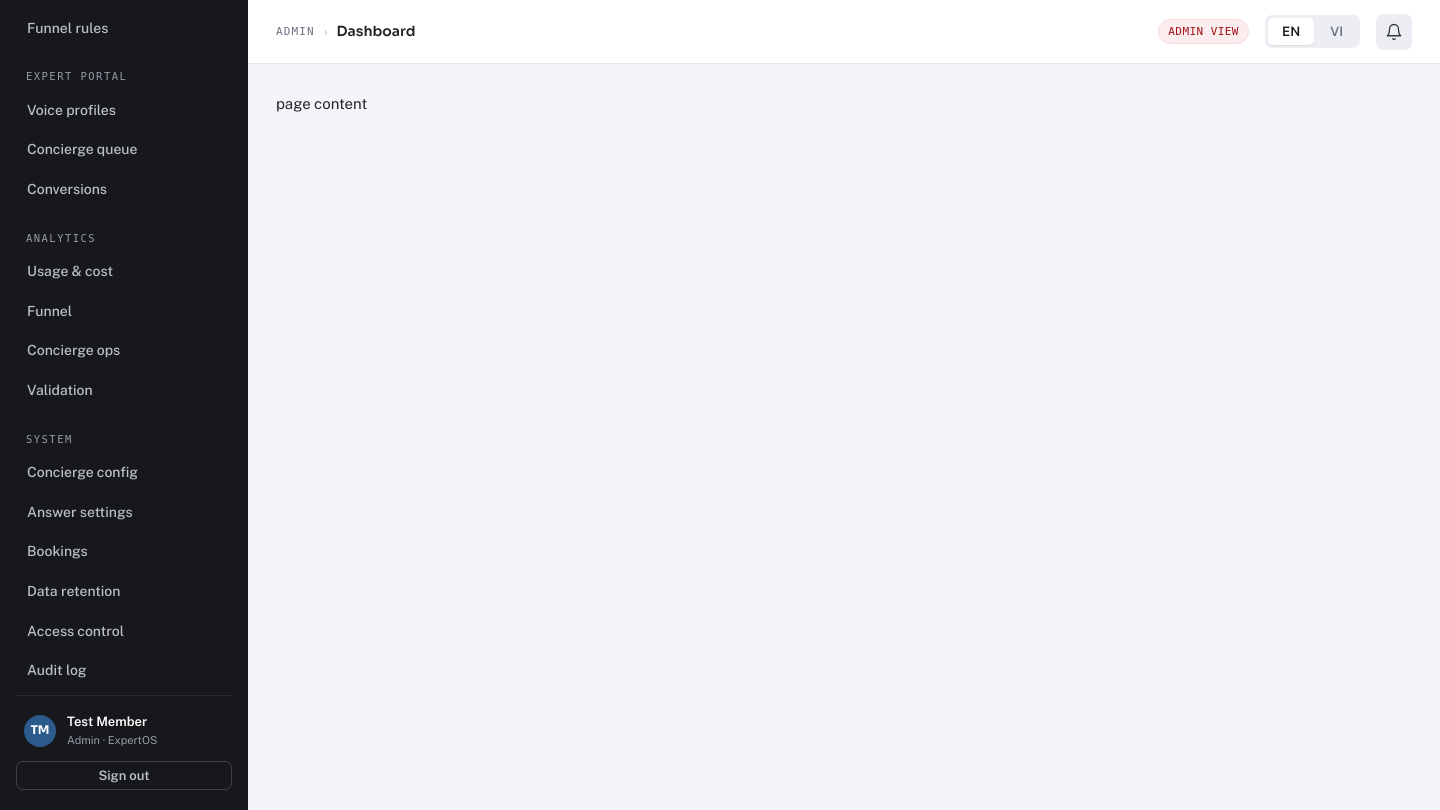
it: AdminFrame — identity footer + sign-out › signs out when the footer button is clicked
(page scrolled)
Expected: the text "Admin view" is shown, [1158,19,1249,44]
Click the button "Sign out".
click(124, 776)  # box [16,761,232,790]
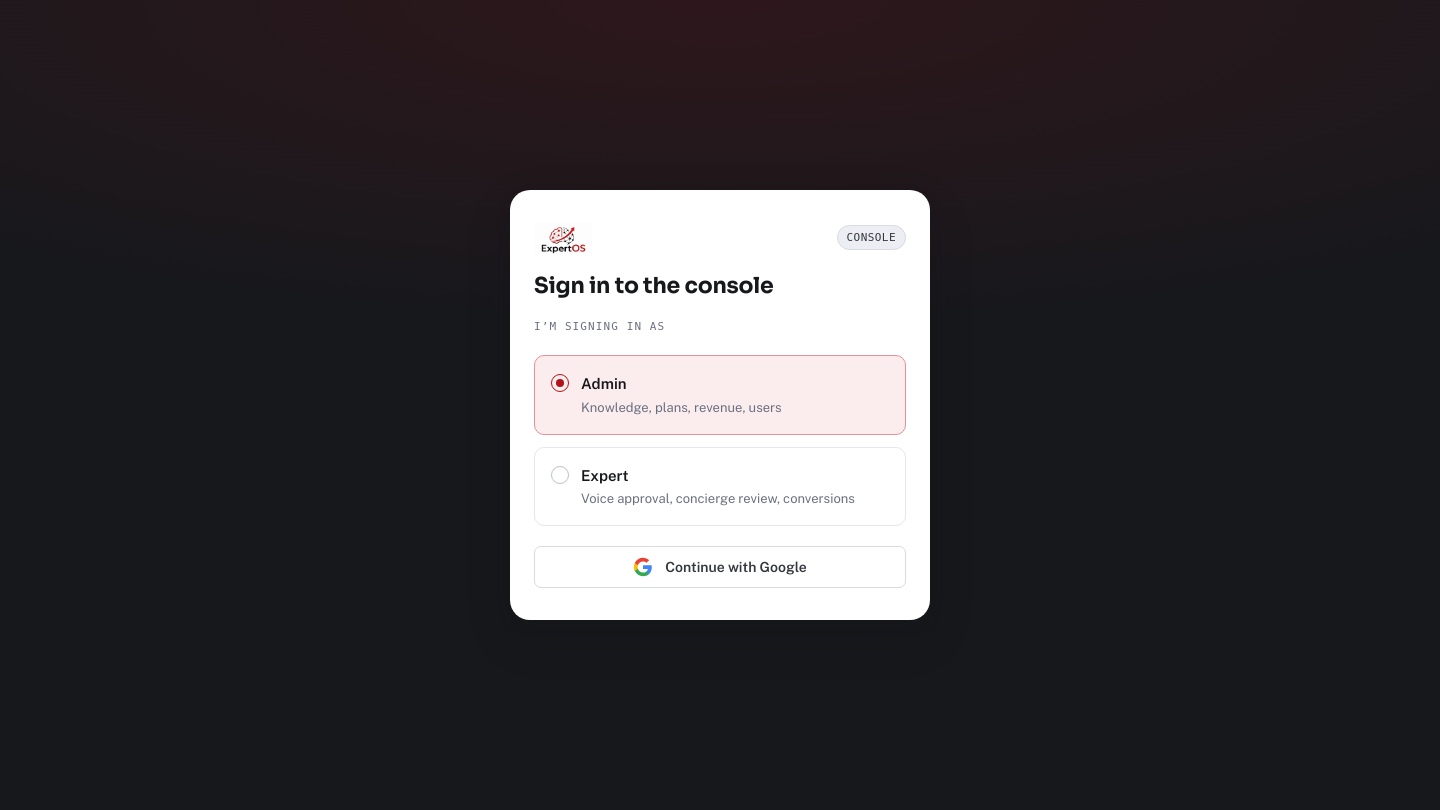
Result: the heading "Sign in to the console" is shown at [534,272,774,299]
